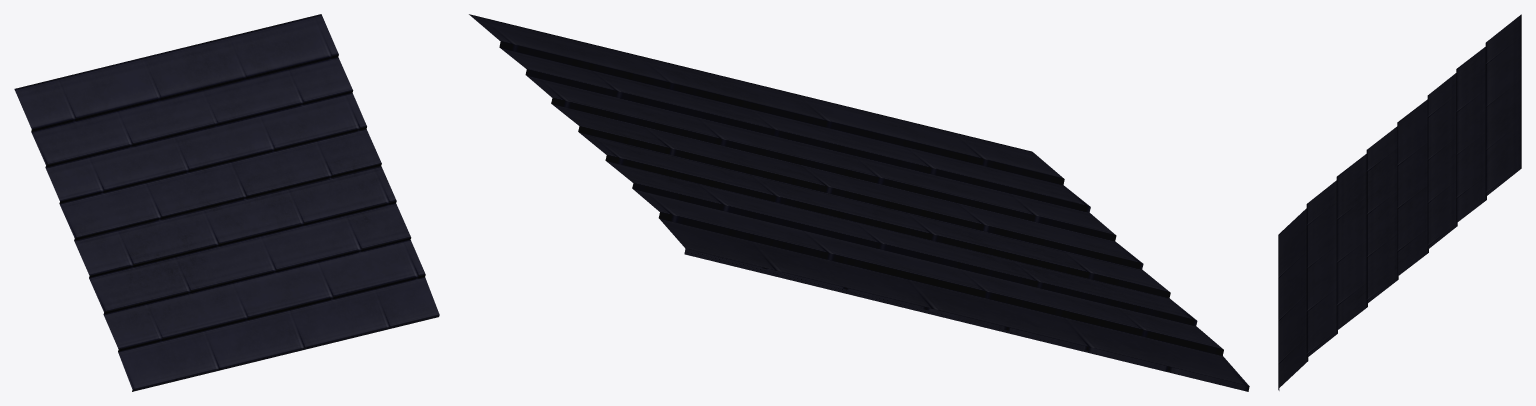
File: Roof_THREE_BY_TWO 1.fbx
The picture shows the model from 3 angles, left to right: view 1: azimuth 30°, elevation 25°; view 2: azimuth 150°, elevation 25°; view 3: azimuth 270°, elevation 25°; orthographic projection. The views are drawn at different scales.
Parts seen in each view (by area): view 1: Roof_THREE_BY_TWO1; view 2: Roof_THREE_BY_TWO1; view 3: Roof_THREE_BY_TWO1.
Part boxes in pixels (x1,y1,x2,y2): Roof_THREE_BY_TWO1: (14, 14, 439, 391); Roof_THREE_BY_TWO1: (469, 14, 1249, 391); Roof_THREE_BY_TWO1: (1278, 14, 1521, 390).
Bounding box in the file's own units: 3 × 2.02 × 2.
